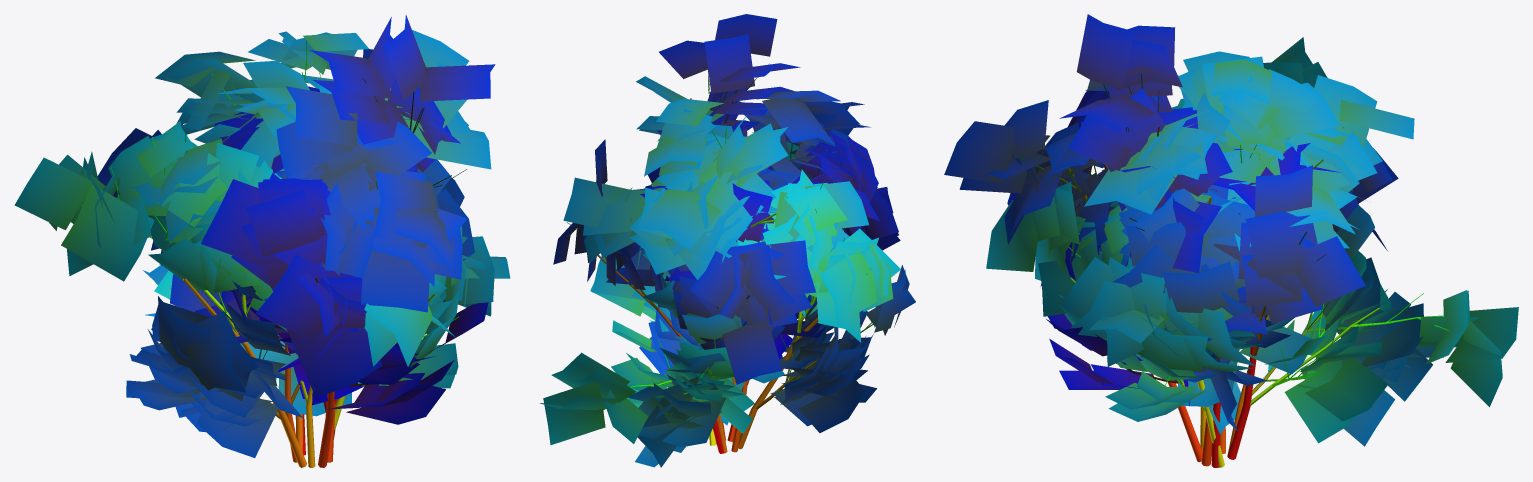
The model's file is SM_Bush_Hazel_B.fbx.
The picture shows the model from 3 angles, left to right: view 1: azimuth 30°, elevation 25°; view 2: azimuth 150°, elevation 25°; view 3: azimuth 270°, elevation 25°; orthographic projection. The views are drawn at different scales.
Parts seen in each view (by area): view 1: SM_Bush_Hazel_B; view 2: SM_Bush_Hazel_B; view 3: SM_Bush_Hazel_B.
Part boxes in pixels (left/top/right/bottom): SM_Bush_Hazel_B: left=14, top=15, right=510, bottom=467; SM_Bush_Hazel_B: left=539, top=14, right=915, bottom=467; SM_Bush_Hazel_B: left=944, top=14, right=1518, bottom=467.
Size of the model in its own units: 2.33 by 2.59 by 2.98.
